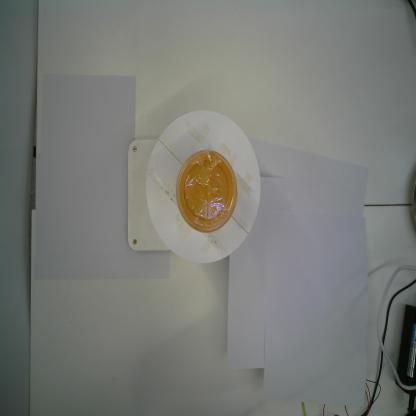Instant Drink: (172, 147, 240, 233)
